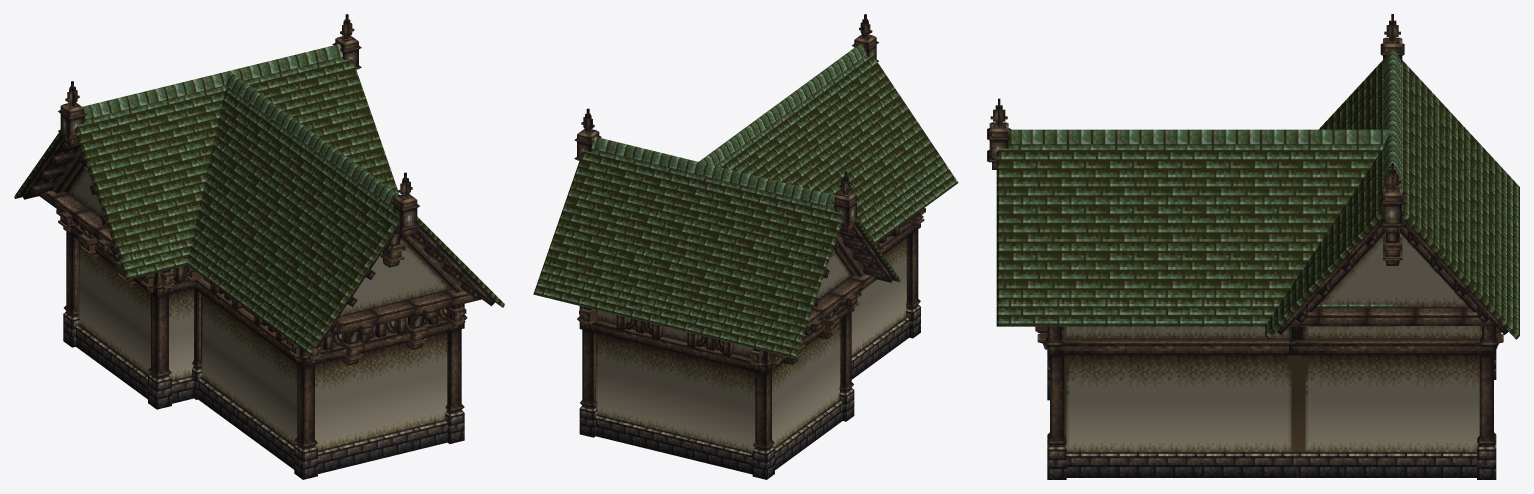
File: EnvBdgMD_City_C_Outdoor_Pub_A.FBX
3 views of the same model, side by side, from view 1: azimuth 30°, elevation 25°; view 2: azimuth 150°, elevation 25°; view 3: azimuth 270°, elevation 25° (orthographic). The views are drawn at different scales.
Parts seen in each view (by area): view 1: EnvBdgMD_City_C_Outdoor_Pub_A; view 2: EnvBdgMD_City_C_Outdoor_Pub_A; view 3: EnvBdgMD_City_C_Outdoor_Pub_A.
Boxes of the visible parts, bbox=[...] form: EnvBdgMD_City_C_Outdoor_Pub_A: bbox=[14, 14, 504, 479]; EnvBdgMD_City_C_Outdoor_Pub_A: bbox=[533, 14, 958, 479]; EnvBdgMD_City_C_Outdoor_Pub_A: bbox=[987, 14, 1519, 479].
Bounding box in the file's own units: 780 × 770 × 1104.
